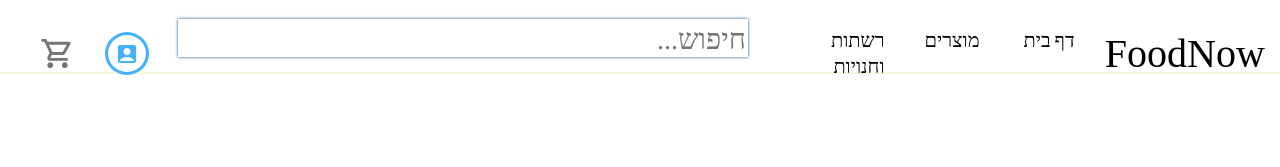
Test: Navbar › should render all categories when product buttom clicked
The width and height of the screenshot is (1280, 167).
Click the text "מוצרים" at (952, 40), box [924, 27, 980, 53]
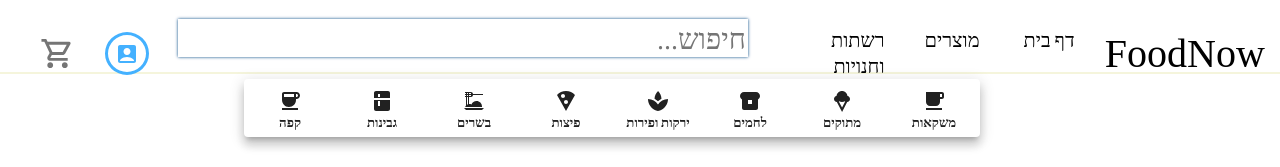
Result: the heading "משקאות" is shown at [912, 113, 956, 131]
Result: the heading "מתוקים" is shown at [823, 113, 861, 131]
Result: the heading "לחמים" is shown at [733, 113, 767, 131]
